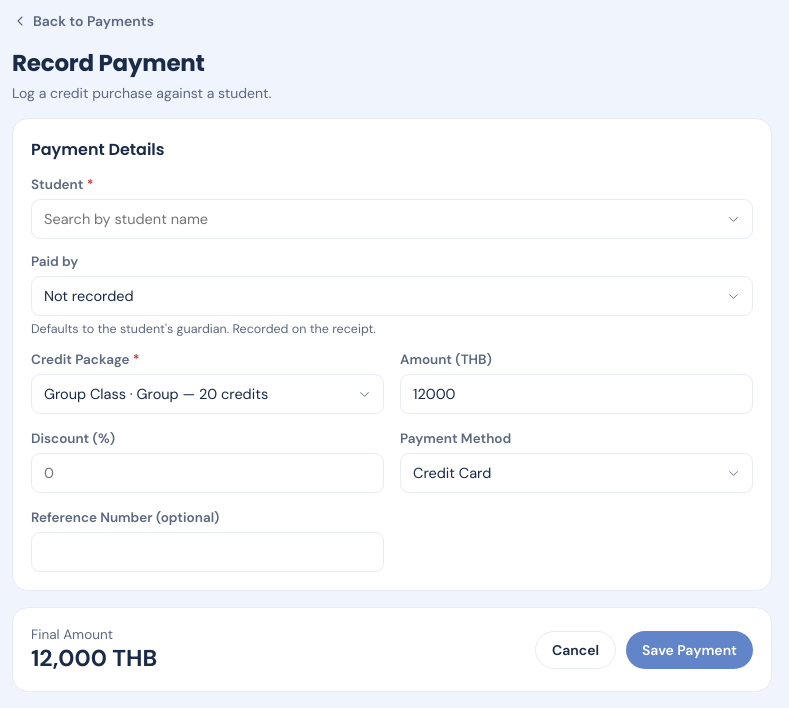
picking a child › names their guardian
Click the dropdown labelled "Student *" at (392, 219), box [31,199,753,239]
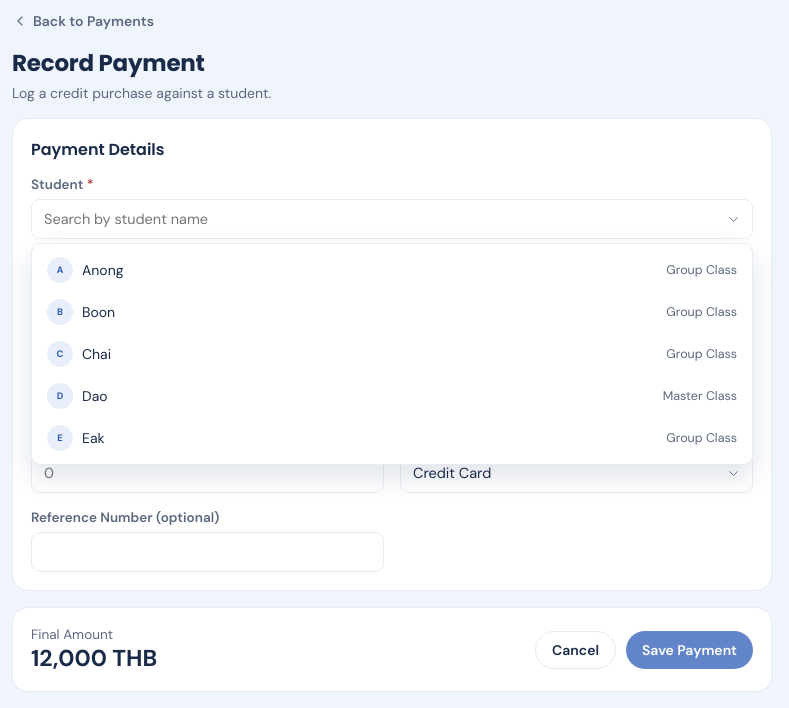
Click the button "B Boon Group Class" at (99, 312), box [37,291,747,333]
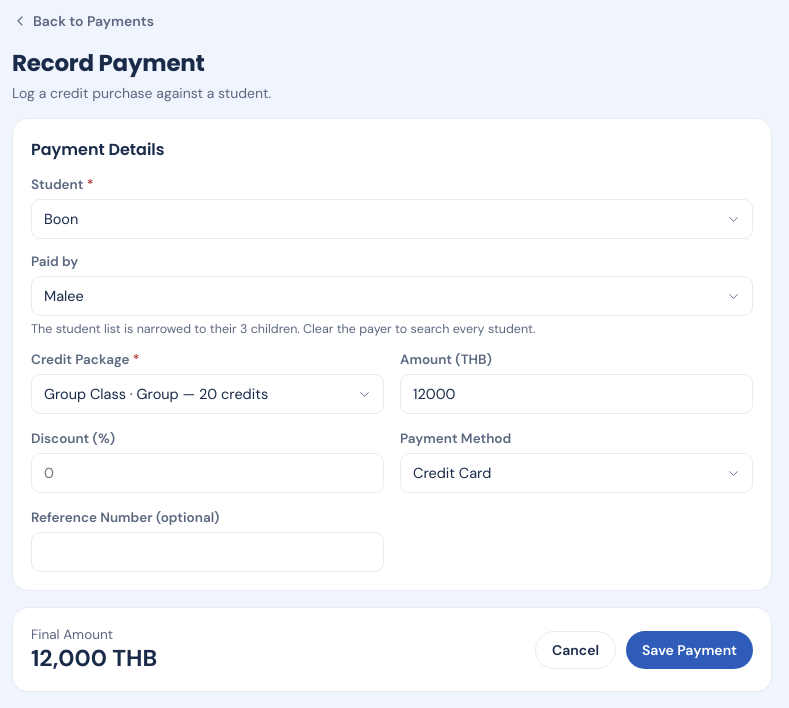
Expected: the dropdown labelled "Student *" holds "Boon", [31,199,753,239]
Expected: the dropdown labelled "Paid by" shows "Malee", [31,276,753,316]
